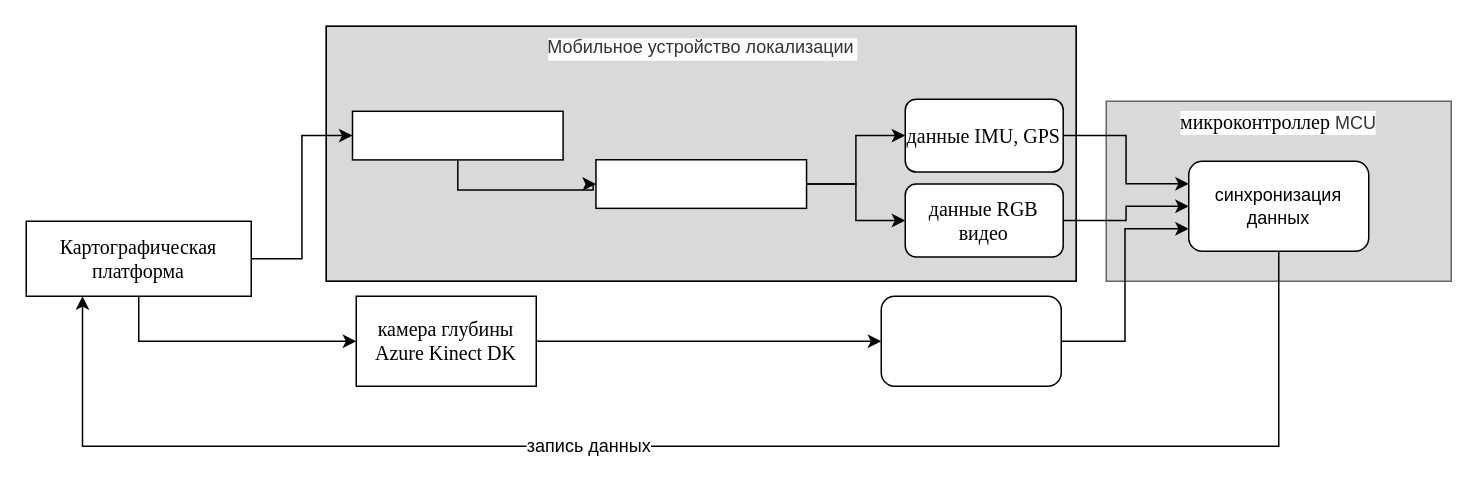
Some shapes in this 1478 by 485 pixel diagram are drawn without their labels. Here are the shapes that lost their labels. From the top down, the box of each, then its label:
(351, 110, 563, 160): смартфон высокого класса
(594, 158, 807, 208): встроенные датчики
(880, 295, 1061, 386): данные RGBD видео
